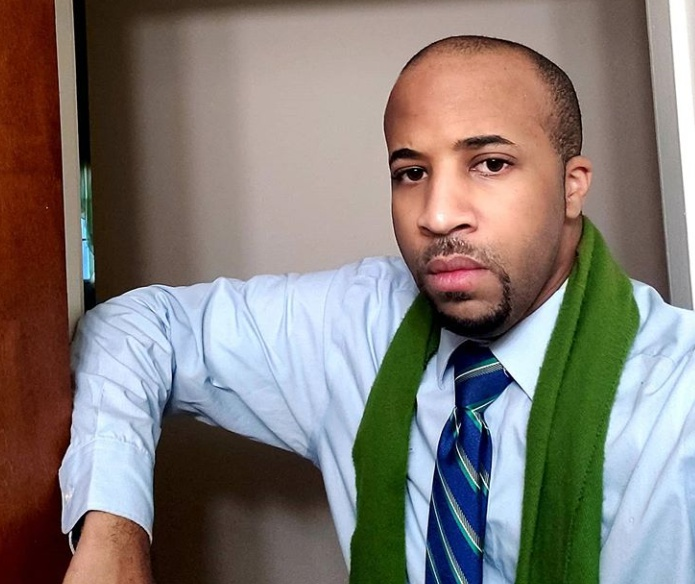mouth: (420, 253, 485, 292)
nose: (416, 213, 477, 234)
